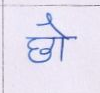au_matra: (47, 14, 69, 61)
